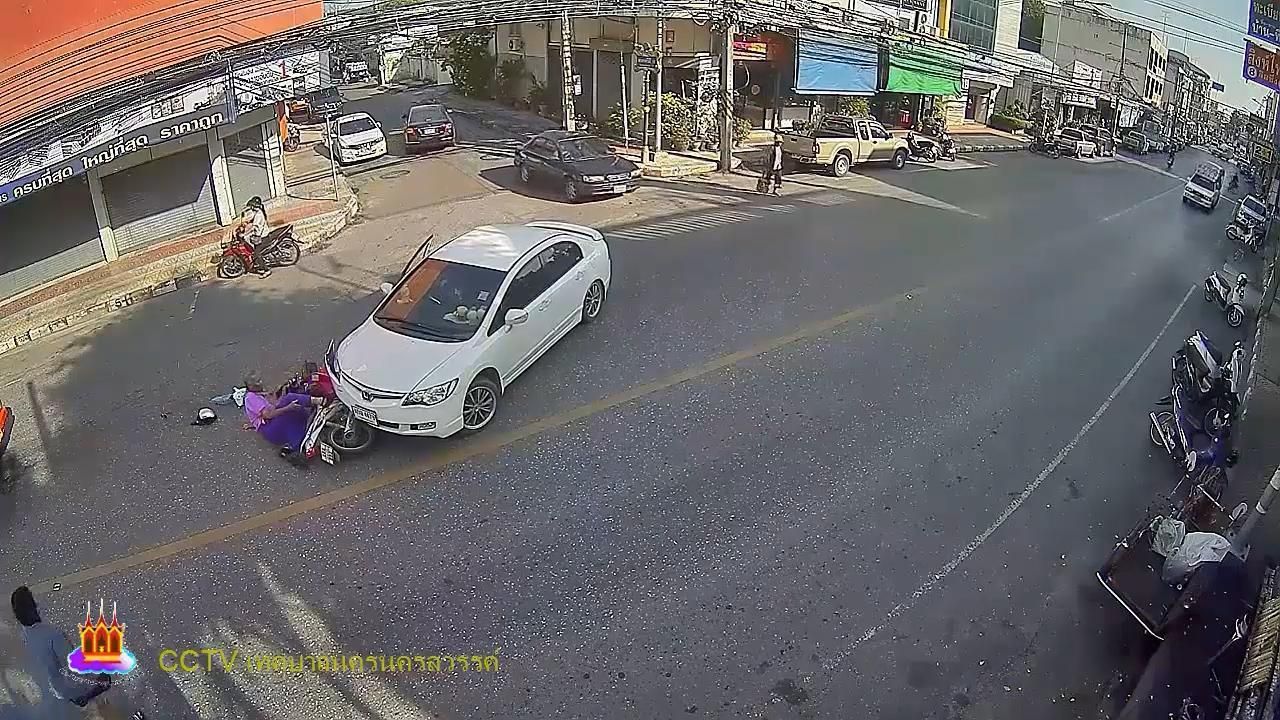accident: (240, 369, 327, 457)
